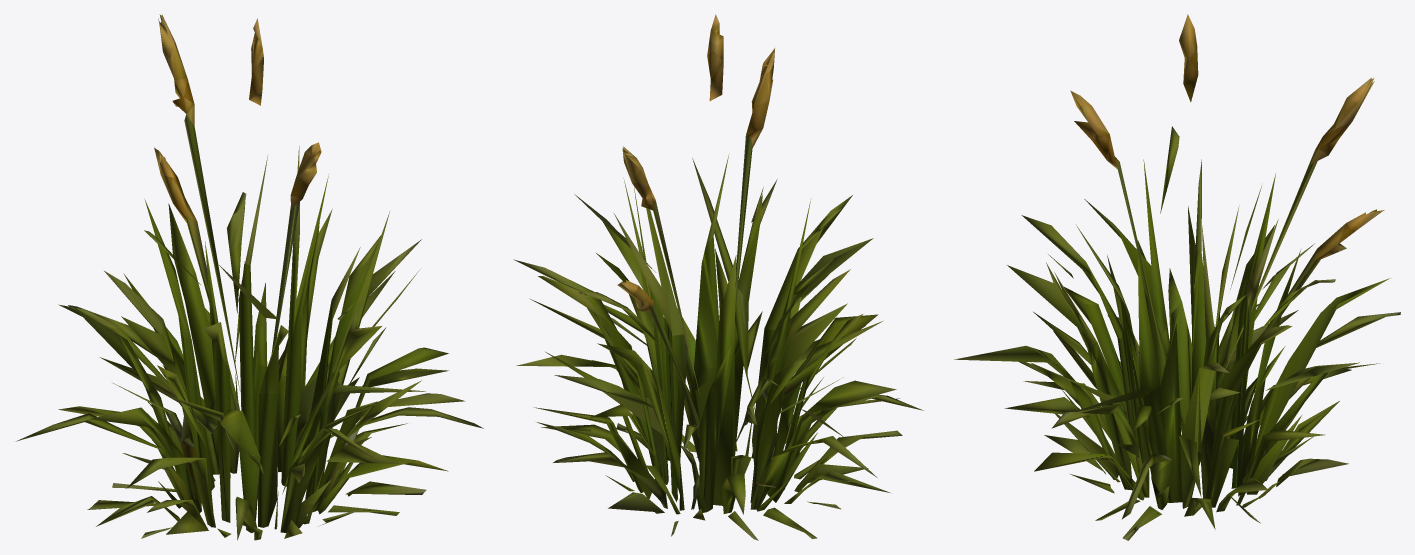
Rendered from grass-tall.glb.
3 views of the same model, side by side, from view 1: azimuth 30°, elevation 25°; view 2: azimuth 150°, elevation 25°; view 3: azimuth 270°, elevation 25° (orthographic). The views are drawn at different scales.
Parts seen in each view (by area): view 1: tripo_node_9d86236d-af80-4993-9926-ca0e1cf7e663; view 2: tripo_node_9d86236d-af80-4993-9926-ca0e1cf7e663; view 3: tripo_node_9d86236d-af80-4993-9926-ca0e1cf7e663.
Boxes of the visible parts, left/top/right/bottom form: tripo_node_9d86236d-af80-4993-9926-ca0e1cf7e663: left=16, top=14, right=483, bottom=540; tripo_node_9d86236d-af80-4993-9926-ca0e1cf7e663: left=513, top=14, right=923, bottom=540; tripo_node_9d86236d-af80-4993-9926-ca0e1cf7e663: left=954, top=14, right=1400, bottom=540.
Size of the model in its own units: 0.7937 by 0.9123 by 0.792.
1 material, 1 textured.
